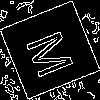M: (25, 25, 83, 81)
